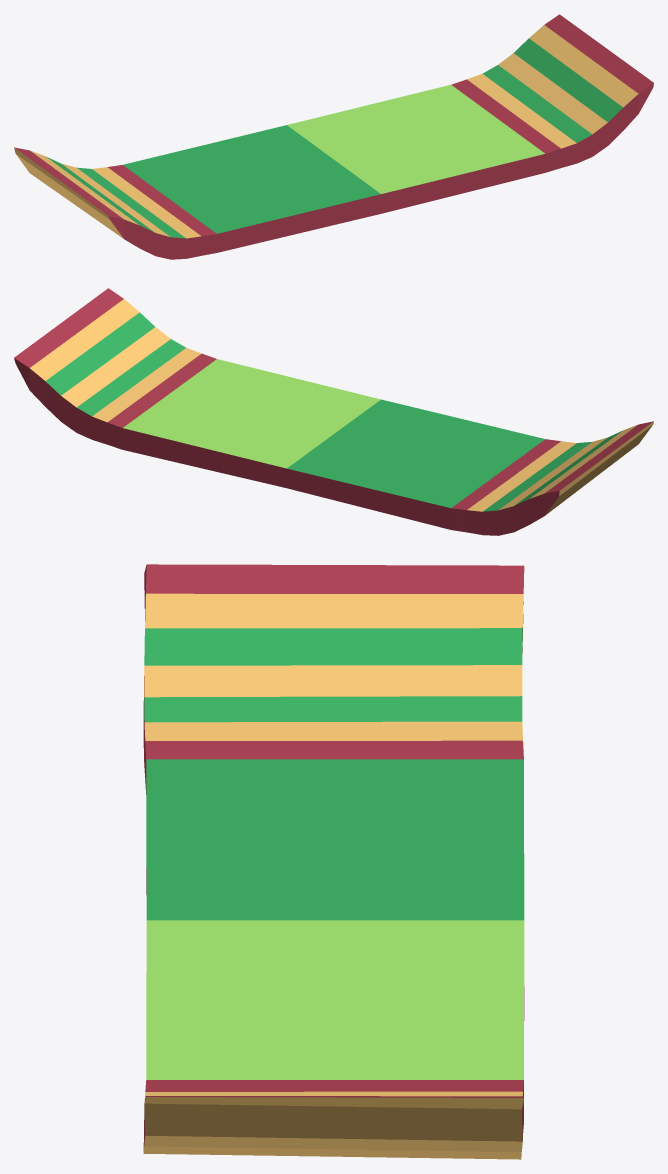
File: SnoubordMesh.fbx
3 renders of one model, top to bottom at view 1: azimuth 30°, elevation 25°; view 2: azimuth 150°, elevation 25°; view 3: azimuth 270°, elevation 25°, orthographic. The views are drawn at different scales.
Visible parts, largest first — view 1: Куб; view 2: Куб; view 3: Куб.
Boxes of the visible parts, bbox=[...] form: Куб: bbox=[14, 14, 653, 259]; Куб: bbox=[14, 288, 653, 535]; Куб: bbox=[143, 564, 524, 1159].
Size of the model in its own units: 101 by 38.69 by 334.
